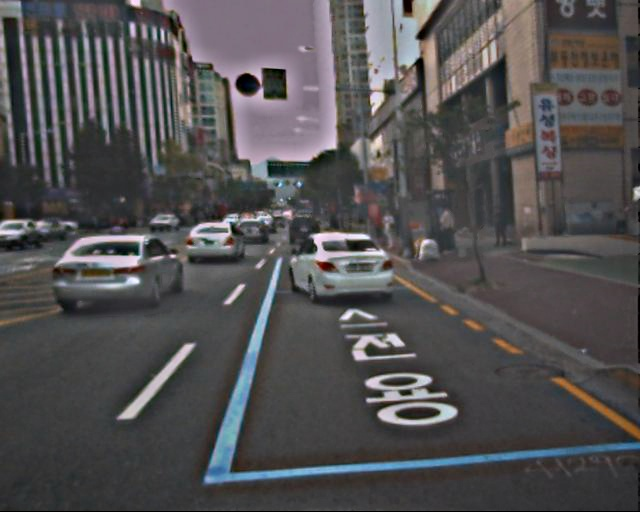person: (438, 204, 459, 256), (379, 210, 397, 253), (493, 206, 510, 248)
